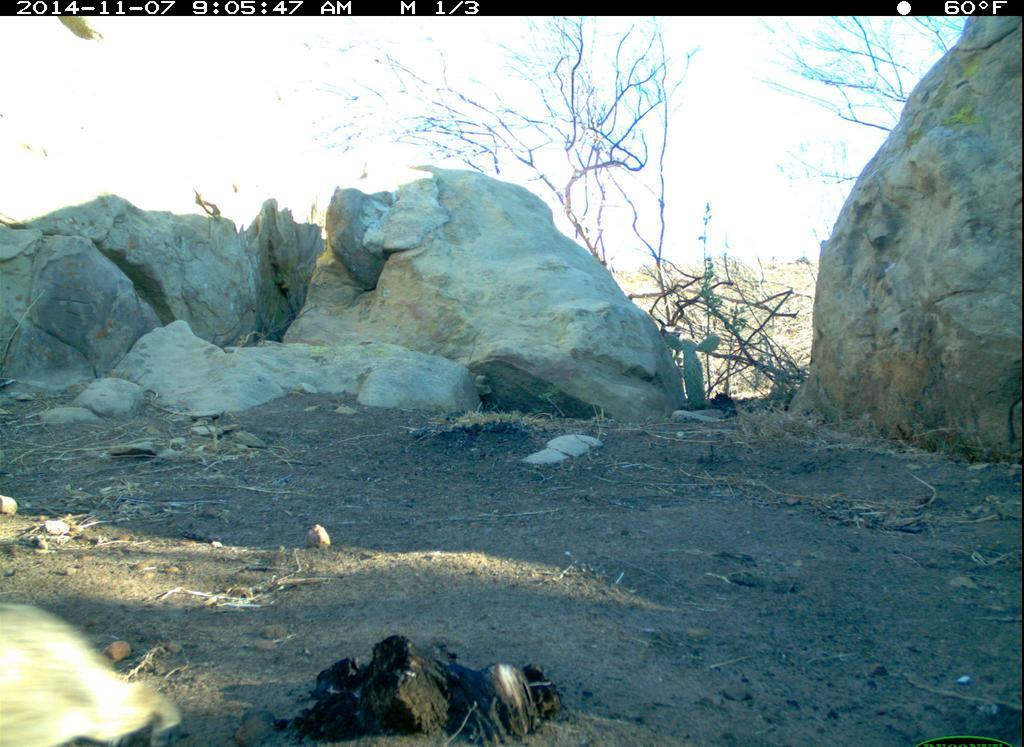rabbit: (1, 589, 189, 747)
